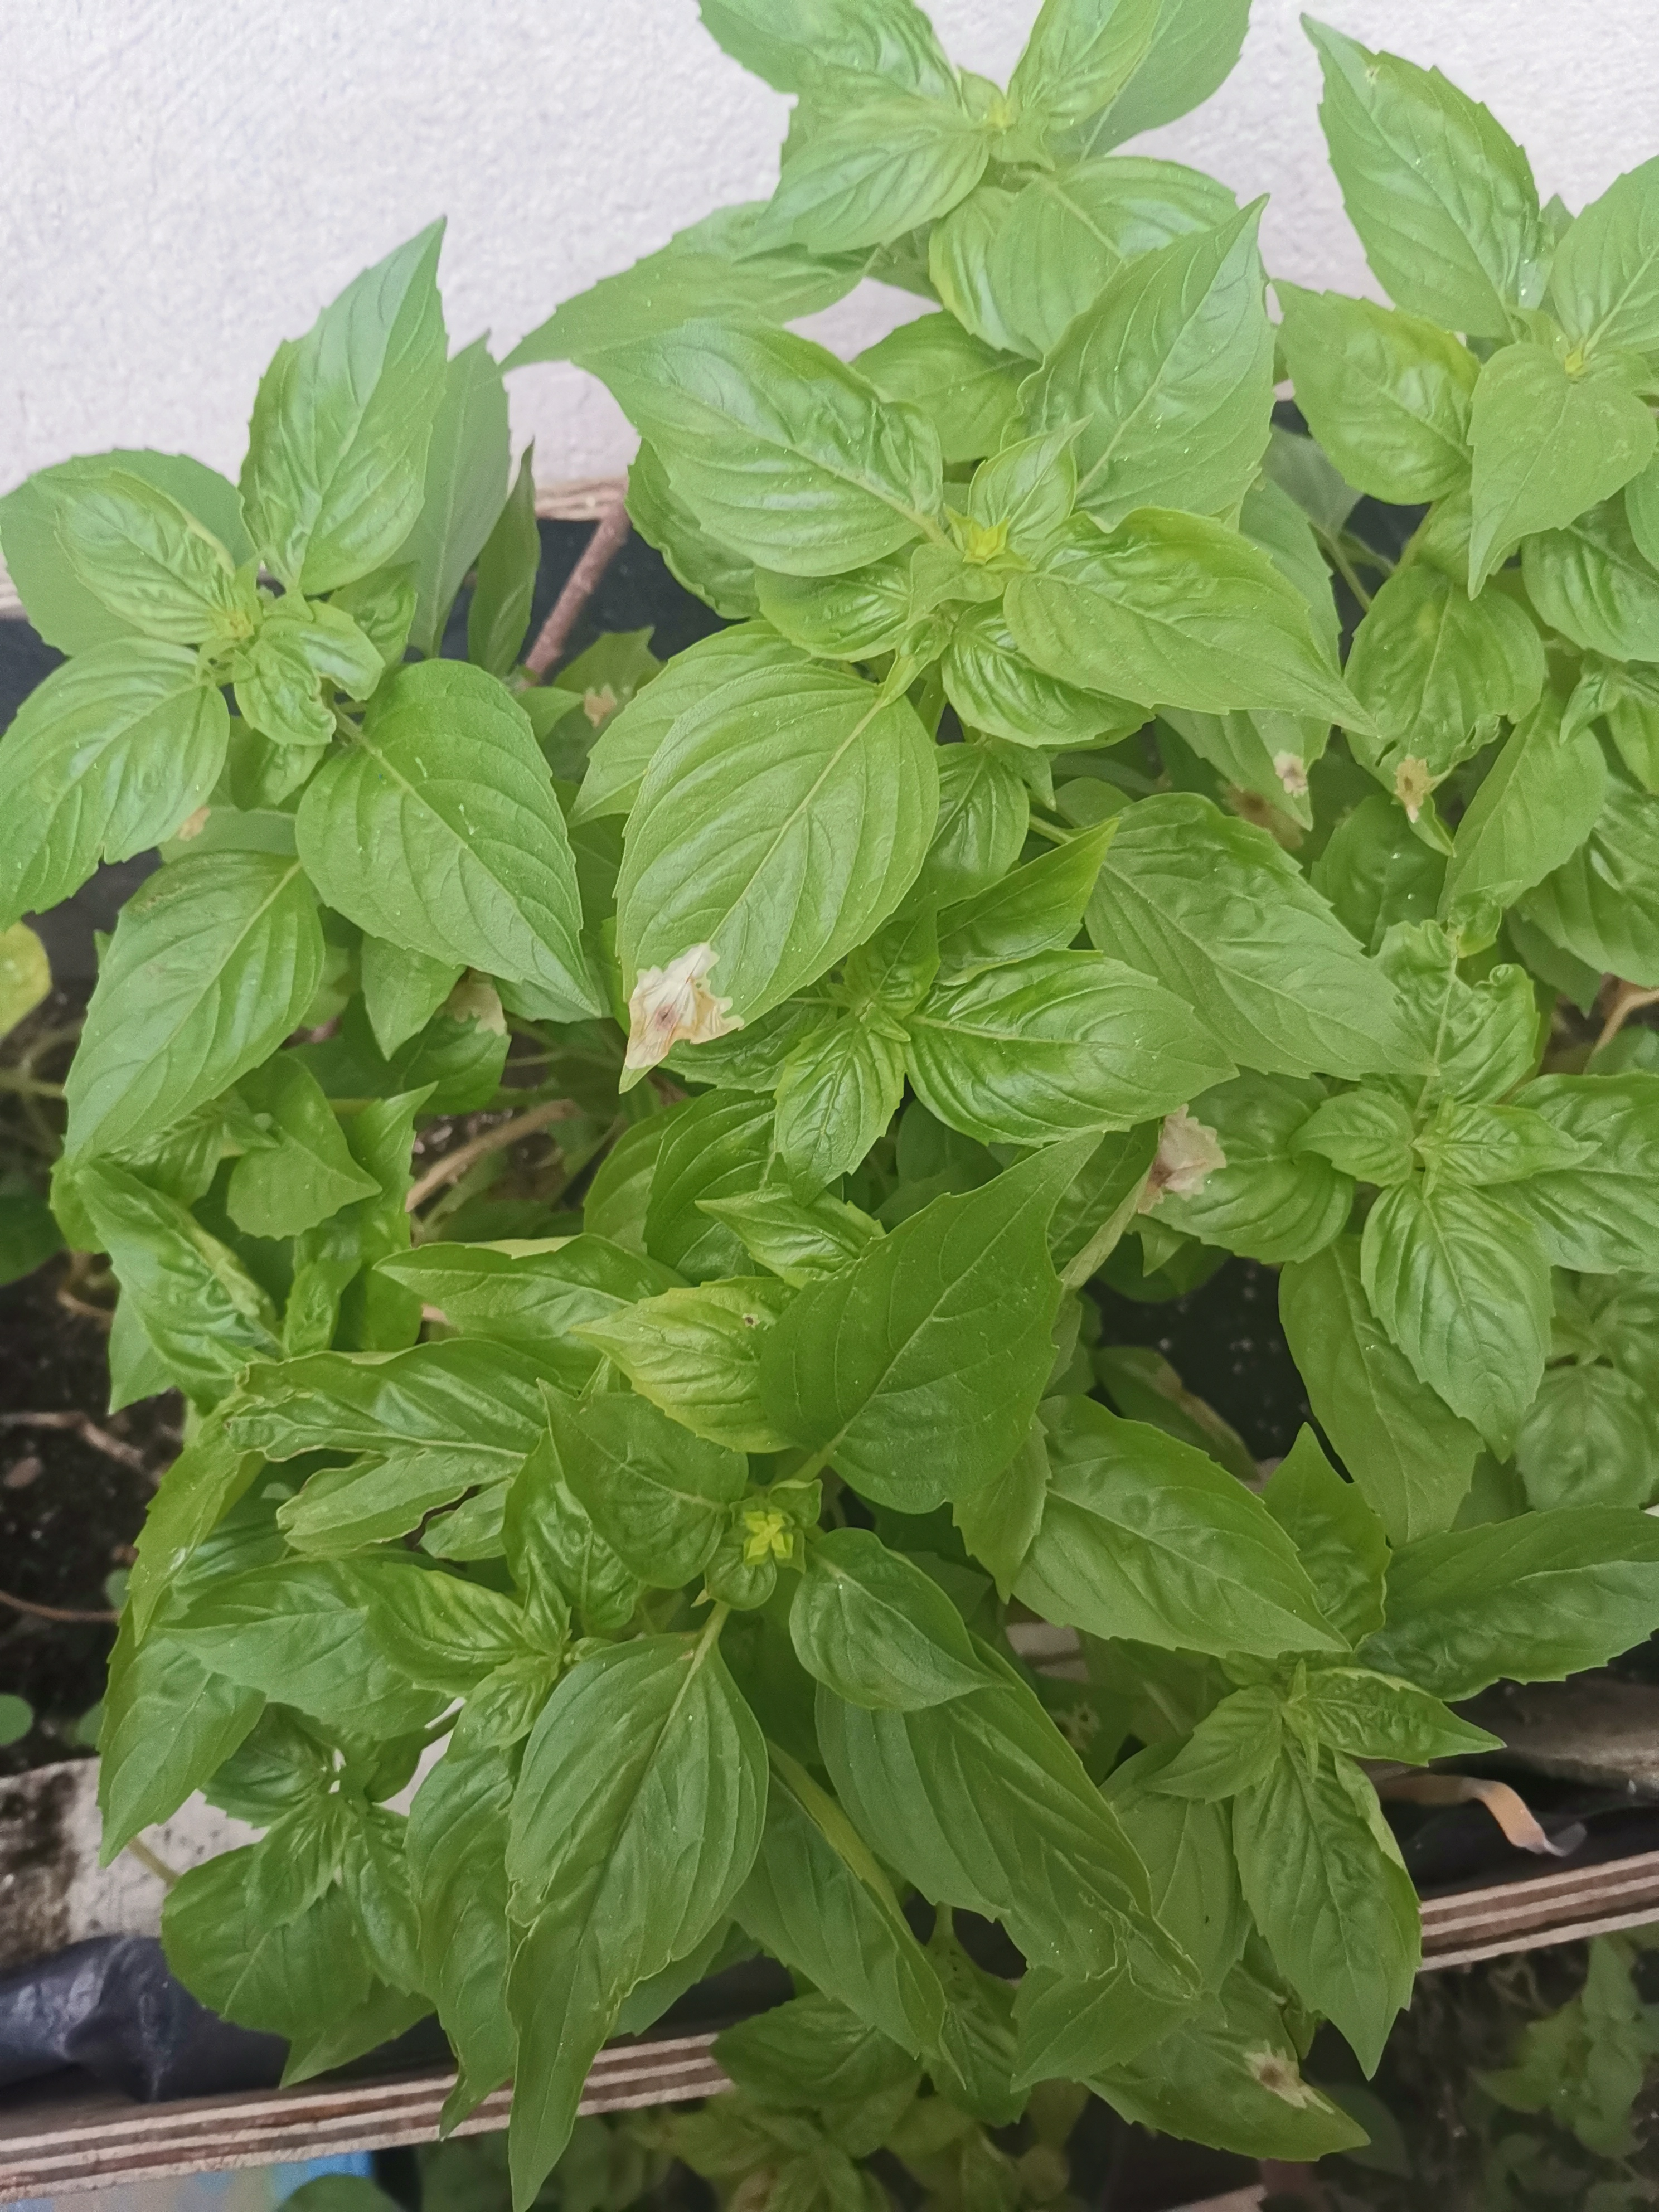Basil_healthy: (803, 1554, 1183, 1994), (741, 1148, 1096, 1524), (279, 657, 592, 1014), (1101, 806, 1474, 1096), (38, 864, 352, 1207), (526, 1623, 763, 2066), (978, 200, 1270, 528), (599, 317, 946, 583), (237, 209, 484, 575), (976, 1400, 1342, 1642), (1303, 14, 1546, 362), (1007, 529, 1375, 745), (132, 1541, 474, 1757), (246, 1336, 586, 1541), (0, 643, 218, 925), (1243, 1723, 1413, 2050), (772, 1508, 1002, 1740), (1361, 1188, 1553, 1456), (758, 68, 1011, 249), (545, 1378, 767, 1583), (1453, 343, 1635, 594), (1288, 279, 1476, 502), (64, 465, 260, 641)
